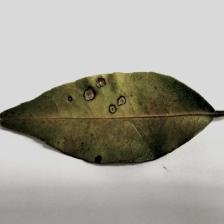canker: (65, 76, 130, 120)
